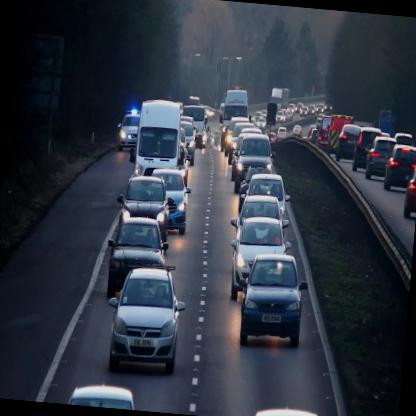car: (102, 265, 188, 375), (234, 252, 310, 352), (103, 214, 170, 304), (226, 214, 292, 304), (112, 172, 176, 249), (229, 191, 290, 251), (236, 170, 294, 222), (148, 168, 192, 236), (232, 130, 276, 192), (383, 143, 415, 193), (364, 135, 398, 182), (352, 126, 380, 174), (336, 123, 361, 163), (177, 122, 199, 166), (116, 112, 140, 152), (403, 163, 415, 220)
truck: (134, 98, 184, 178), (220, 88, 250, 152), (180, 106, 207, 148)
